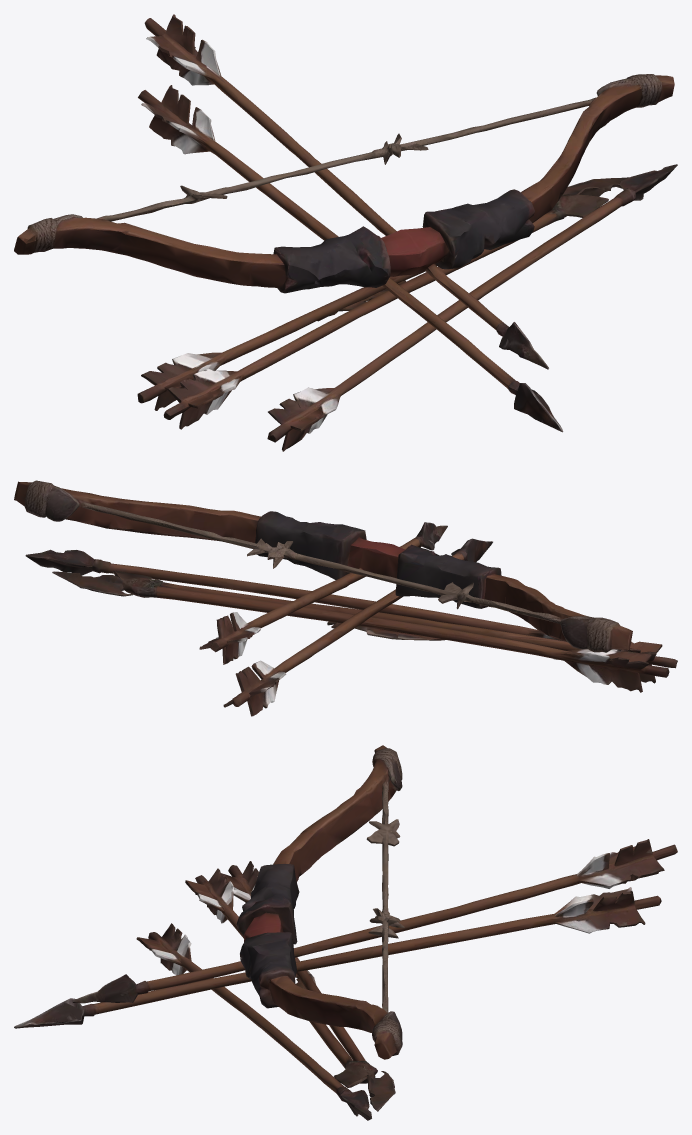
File: weapon_bow_ohotnichiy_idle.glb
3 views of the same model, one above another, from view 1: azimuth 30°, elevation 25°; view 2: azimuth 150°, elevation 25°; view 3: azimuth 270°, elevation 25° (orthographic). The views are drawn at different scales.
Visible parts, largest first — view 1: tripo_node_c8666588-8a30-414a-9d20-19113417b490; view 2: tripo_node_c8666588-8a30-414a-9d20-19113417b490; view 3: tripo_node_c8666588-8a30-414a-9d20-19113417b490.
Boxes of the visible parts, box(x1,y1,x2,y2) form: tripo_node_c8666588-8a30-414a-9d20-19113417b490: box(14, 14, 677, 451); tripo_node_c8666588-8a30-414a-9d20-19113417b490: box(14, 480, 677, 716); tripo_node_c8666588-8a30-414a-9d20-19113417b490: box(14, 745, 677, 1120).
Size of the model in its own units: 1.1 by 0.3341 by 1.04.
Materials: 1 (1 with a texture image).
